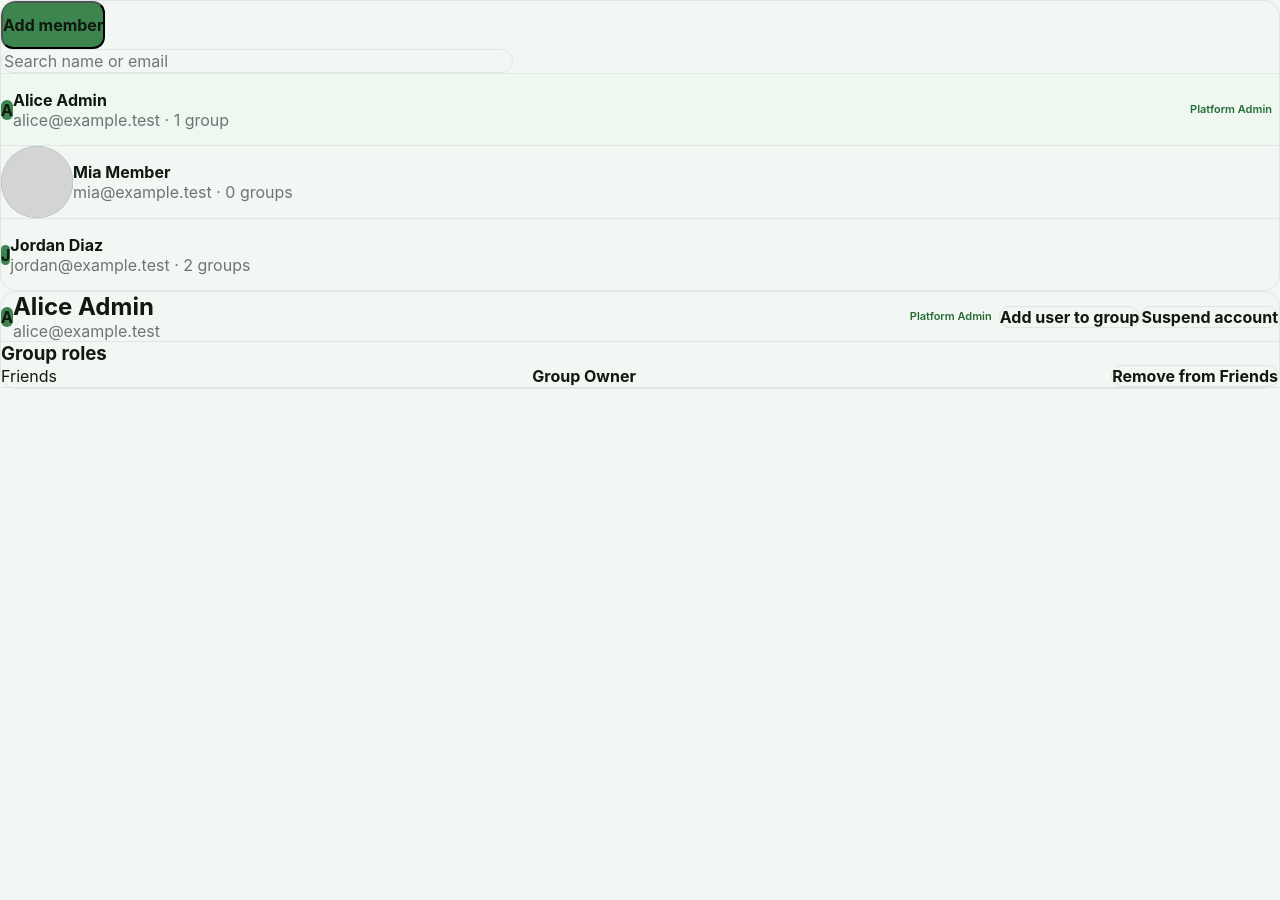
Test: UsersAdminView › opens the confirm-suspend dialog when Suspend is clicked
The image size is (1280, 900).
Click the button "Suspend account" at coordinates (1210, 316), box [1140,306,1279,328]
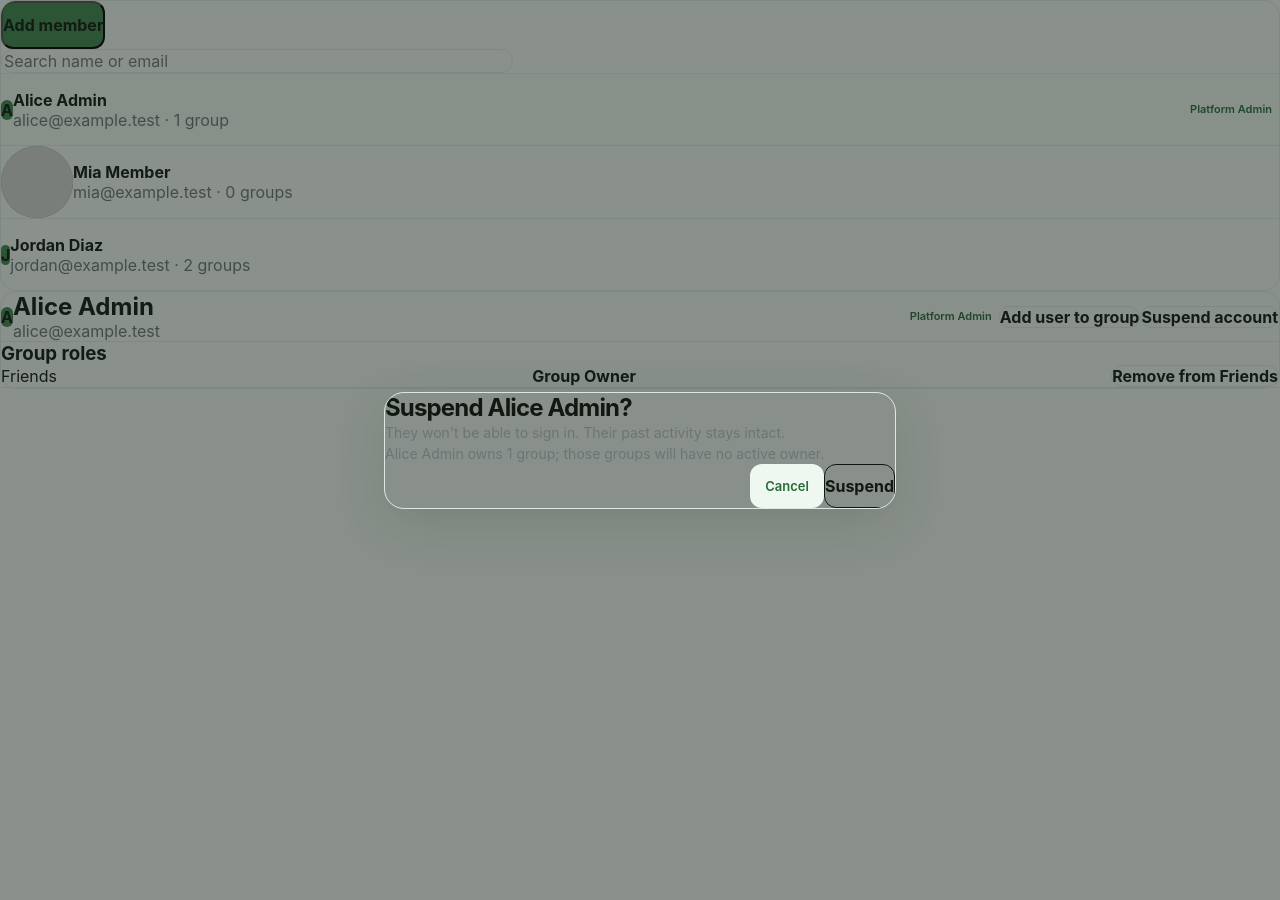
Expected: the heading "Suspend Alice Admin?" is shown, [385,392,632,422]
